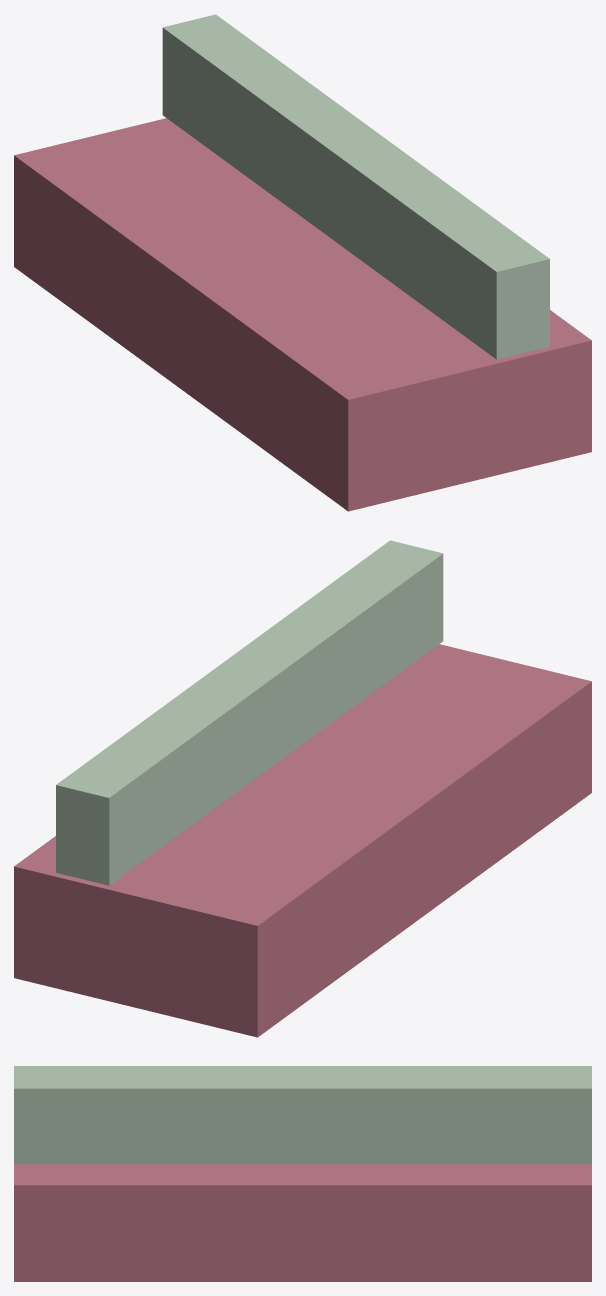
The model's file is 199507_pred.glb.
3 renders of one model, top to bottom at view 1: azimuth 30°, elevation 25°; view 2: azimuth 150°, elevation 25°; view 3: azimuth 270°, elevation 25°, orthographic. The views are drawn at different scales.
Parts seen in each view (by area): view 1: world; view 2: world; view 3: world.
Part boxes in pixels (x1,y1,x2,y2): world: (14, 14, 591, 511); world: (14, 540, 591, 1037); world: (14, 1066, 591, 1281).
Size of the model in its own units: 3.2 by 2.55 by 7.6.
